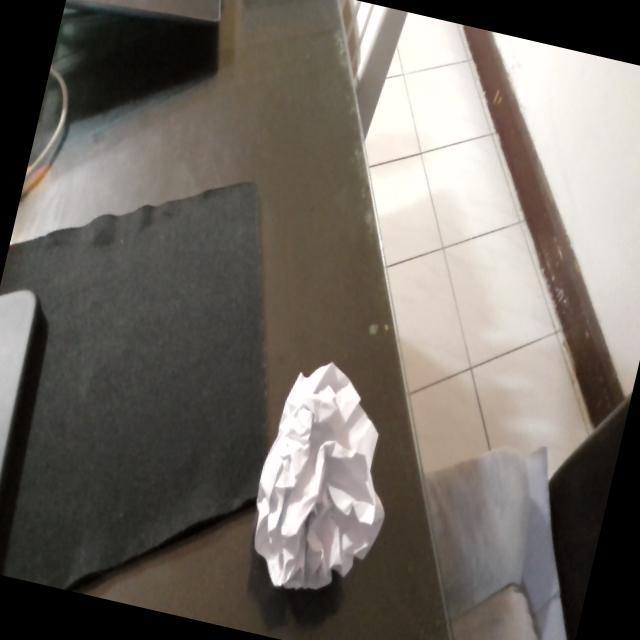crumpled_paper: (233, 344, 422, 618)
